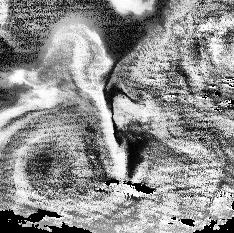AE: (13, 96, 130, 217)
